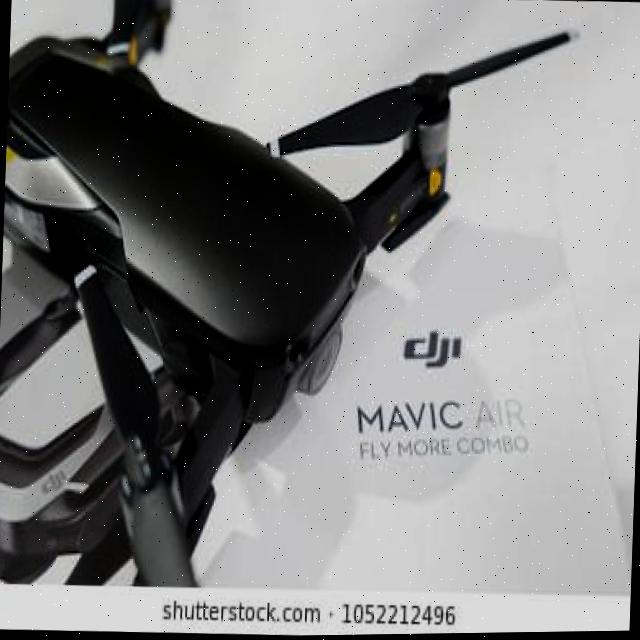drone: (0, 0, 582, 592)
